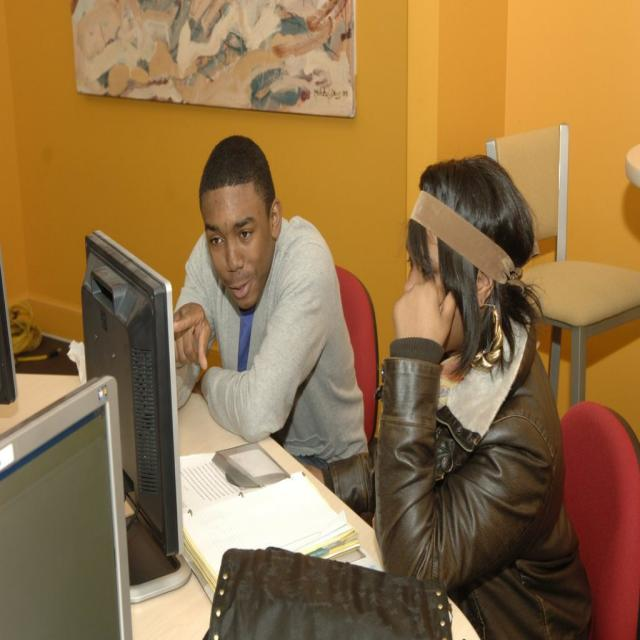chair: (486, 122, 638, 414), (559, 399, 640, 635), (335, 266, 380, 444)
desk: (0, 332, 481, 640)
laptop: (76, 224, 334, 593), (0, 372, 132, 632)
person: (373, 150, 594, 634), (172, 135, 374, 510)
